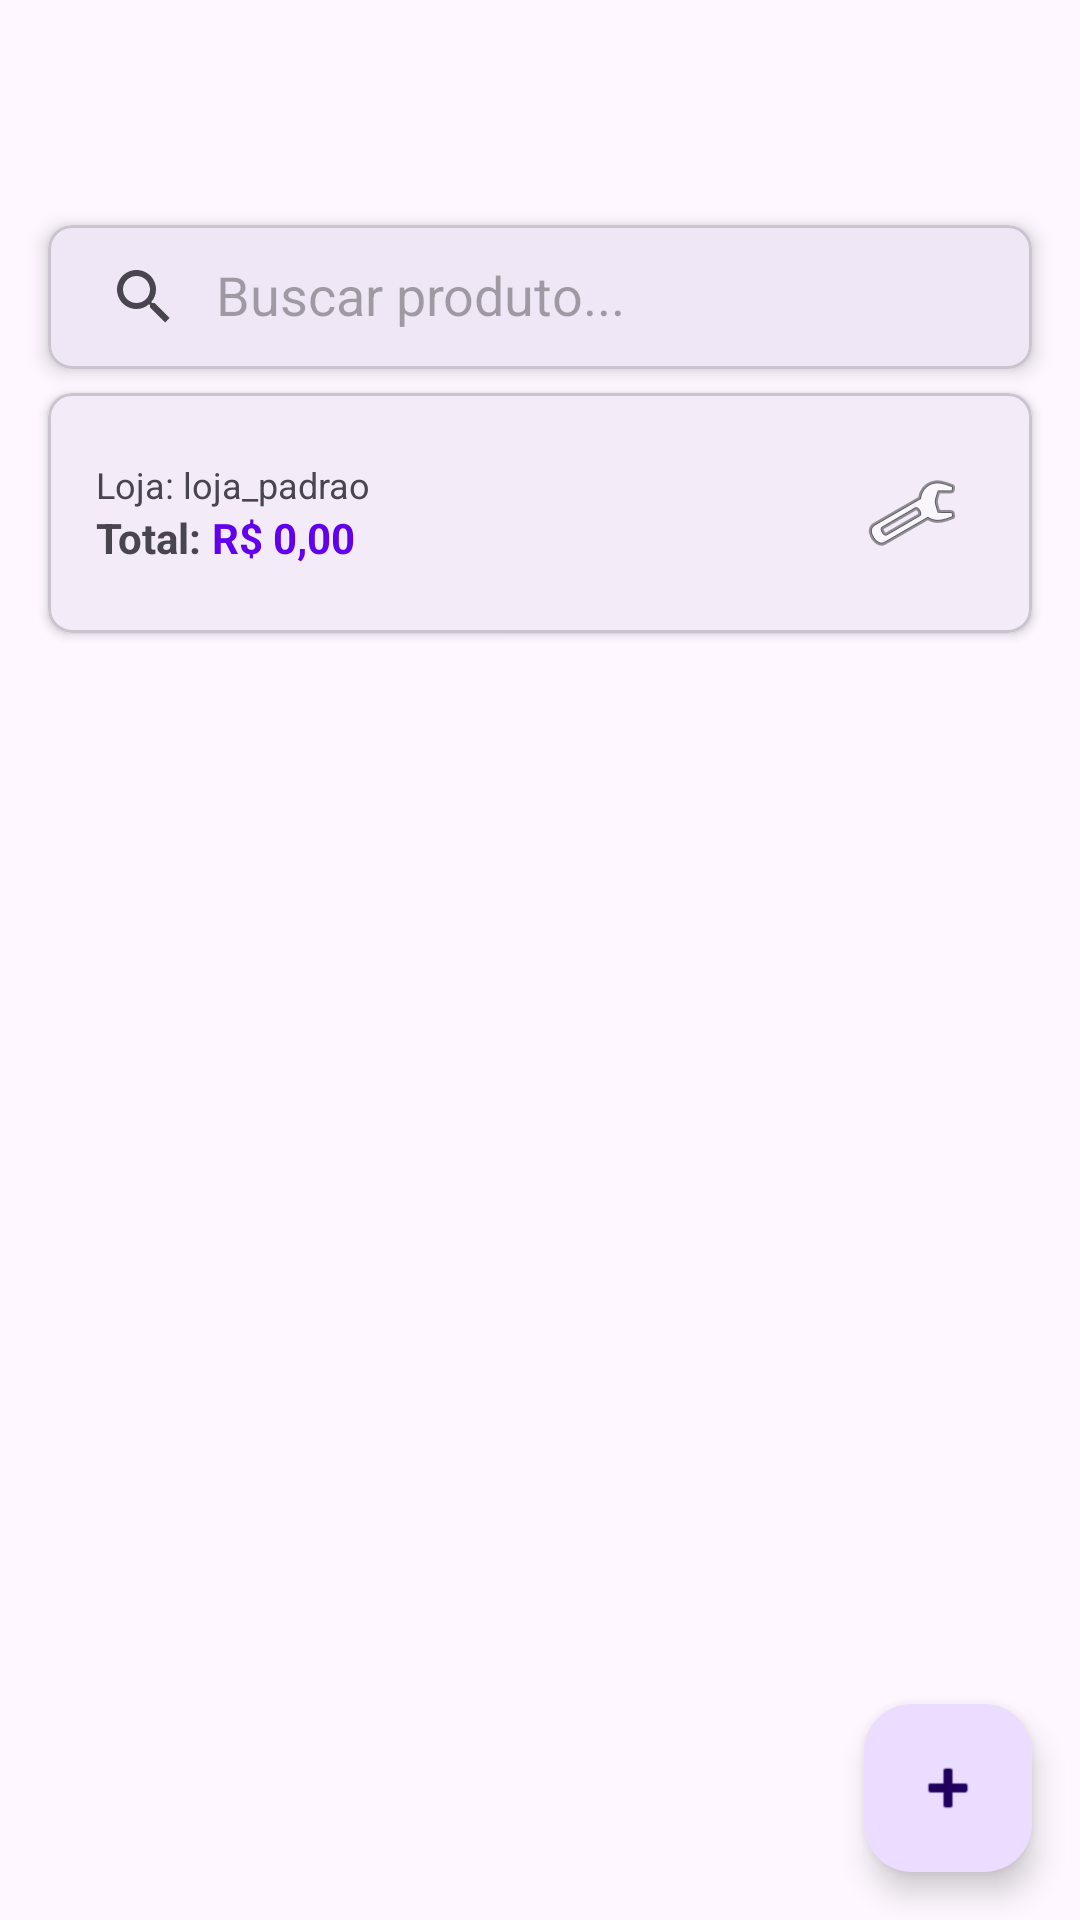

Where icons sit on this 1080×1920 app screen, as (x1, y1, x2, y2):
Adicionar Produto: (864, 1704, 1032, 1872)
Configurar Loja: (869, 480, 955, 546)
